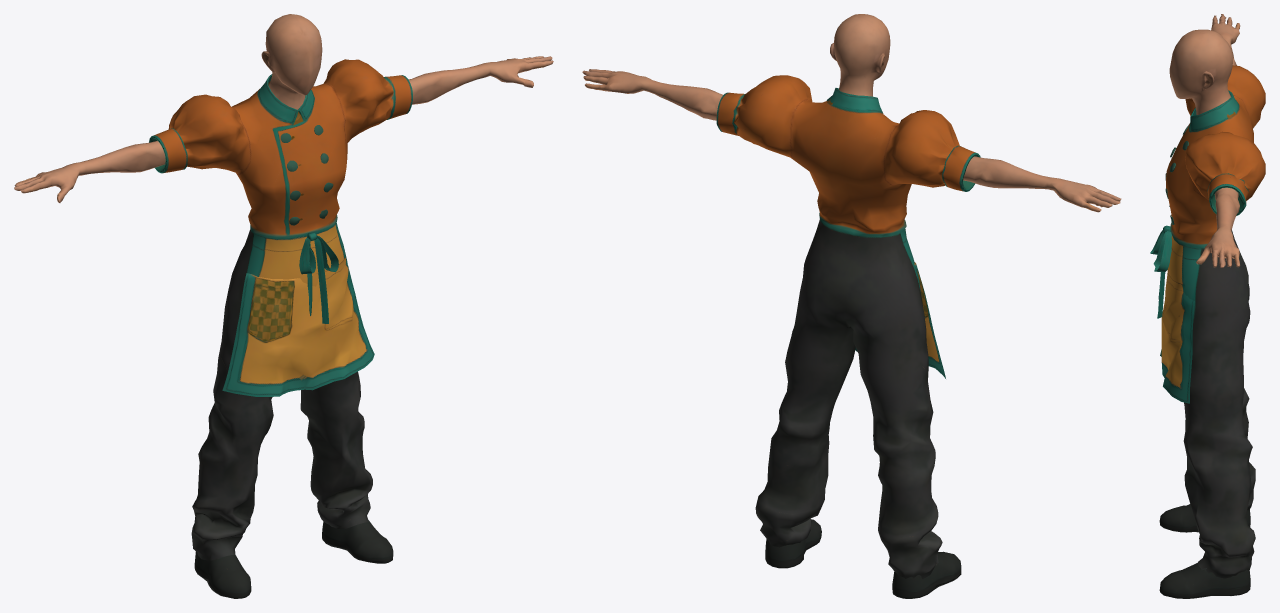
Rendered from source.glb.
3 renders of one model, left to right at view 1: azimuth 30°, elevation 25°; view 2: azimuth 150°, elevation 25°; view 3: azimuth 270°, elevation 25°, orthographic. The views are drawn at different scales.
Visible parts, largest first — view 1: geometry_0; view 2: geometry_0; view 3: geometry_0.
Part boxes in pixels (x1,y1,x2,y2): geometry_0: (14,14,553,598); geometry_0: (582,14,1121,598); geometry_0: (1150,14,1265,598).
Bounding box in the file's own units: 0.9473 × 0.9238 × 0.1836.
Materials: 1 (1 with a texture image).
